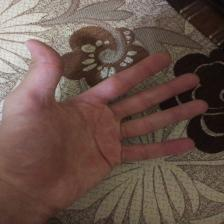five: (13, 35, 208, 205)
